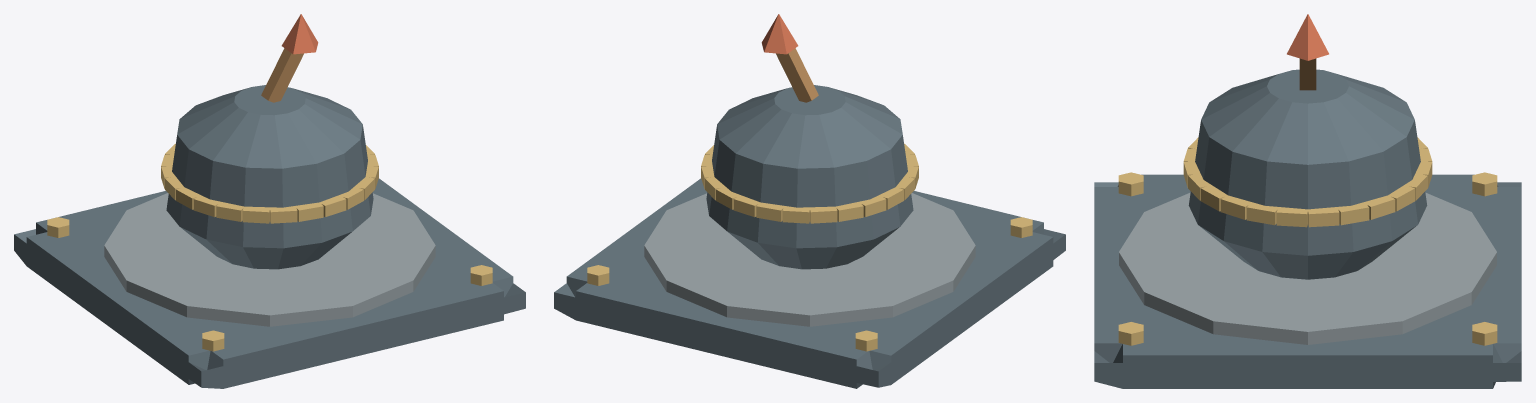
File: TrapBomb.fbx
The picture shows the model from 3 angles, left to right: view 1: azimuth 30°, elevation 25°; view 2: azimuth 150°, elevation 25°; view 3: azimuth 270°, elevation 25°; orthographic projection. The views are drawn at different scales.
Parts seen in each view (by area): view 1: TrapBomb.002; view 2: TrapBomb.002; view 3: TrapBomb.002.
Boxes of the visible parts, left/top/right/bottom form: TrapBomb.002: left=14, top=14, right=525, bottom=388; TrapBomb.002: left=554, top=14, right=1065, bottom=388; TrapBomb.002: left=1094, top=14, right=1521, bottom=388.
Size of the model in its own units: 104 by 81 by 104.
